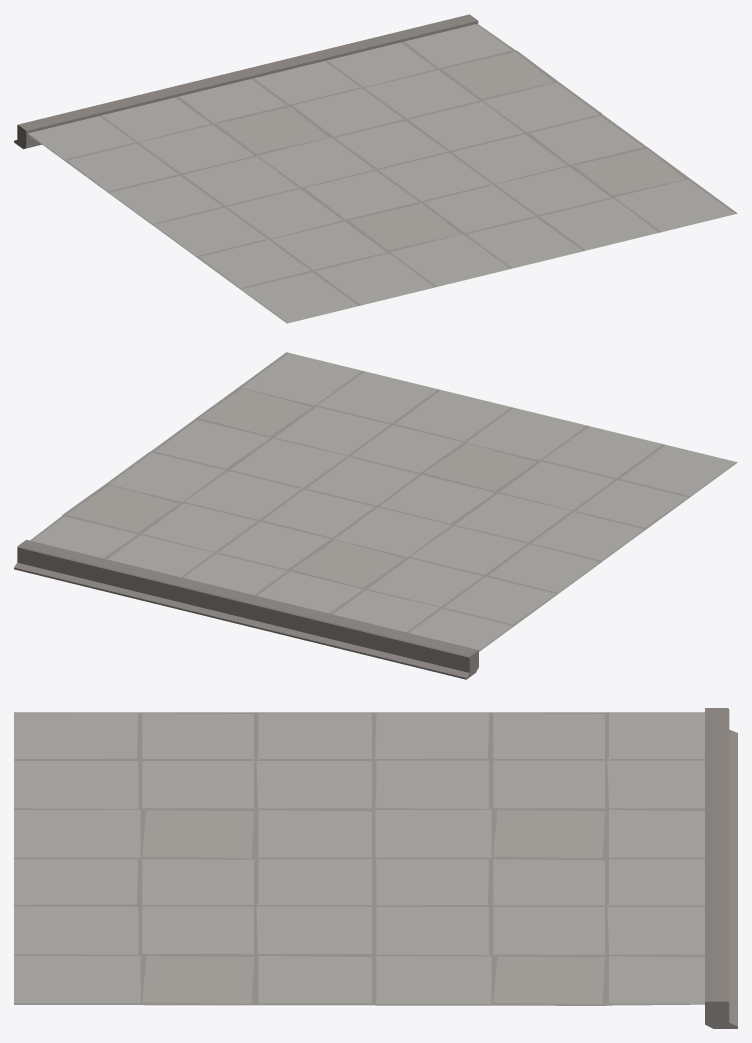
File: BrickRoad_1.fbx
The picture shows the model from 3 angles, top to bottom: view 1: azimuth 30°, elevation 25°; view 2: azimuth 150°, elevation 25°; view 3: azimuth 270°, elevation 25°; orthographic projection. The views are drawn at different scales.
Parts seen in each view (by area): view 1: Tile_11; view 2: Tile_11; view 3: Tile_11.
Boxes of the visible parts, x1=… form: Tile_11: x1=14, y1=14, x2=737, y2=323; Tile_11: x1=14, y1=352, x2=737, y2=679; Tile_11: x1=14, y1=708, x2=737, y2=1028.
Bounding box in the file's own units: 4.81 × 0.2083 × 5.
